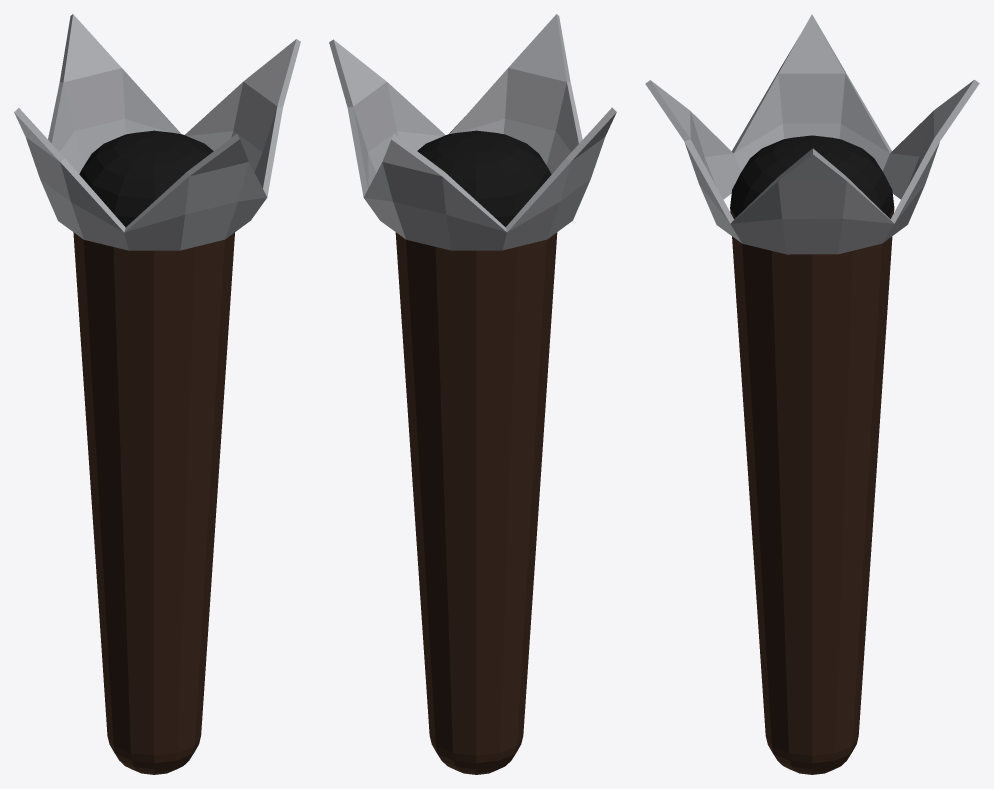
The model's file is Tocha_de_Parede.fbx.
3 views of the same model, side by side, from view 1: azimuth 30°, elevation 25°; view 2: azimuth 150°, elevation 25°; view 3: azimuth 270°, elevation 25° (orthographic).
Parts seen in each view (by area): view 1: Cylinder.022, Cylinder.023; view 2: Cylinder.022, Cylinder.023; view 3: Cylinder.022, Cylinder.023.
Part boxes in pixels (box(x1,y1,x2,y2)): Cylinder.022: box(73, 130, 234, 774); Cylinder.023: box(14, 14, 300, 250); Cylinder.022: box(395, 130, 557, 774); Cylinder.023: box(329, 14, 616, 250); Cylinder.022: box(730, 135, 894, 774); Cylinder.023: box(645, 14, 979, 254).
Bounding box in the file's own units: 183 × 422 × 186.
